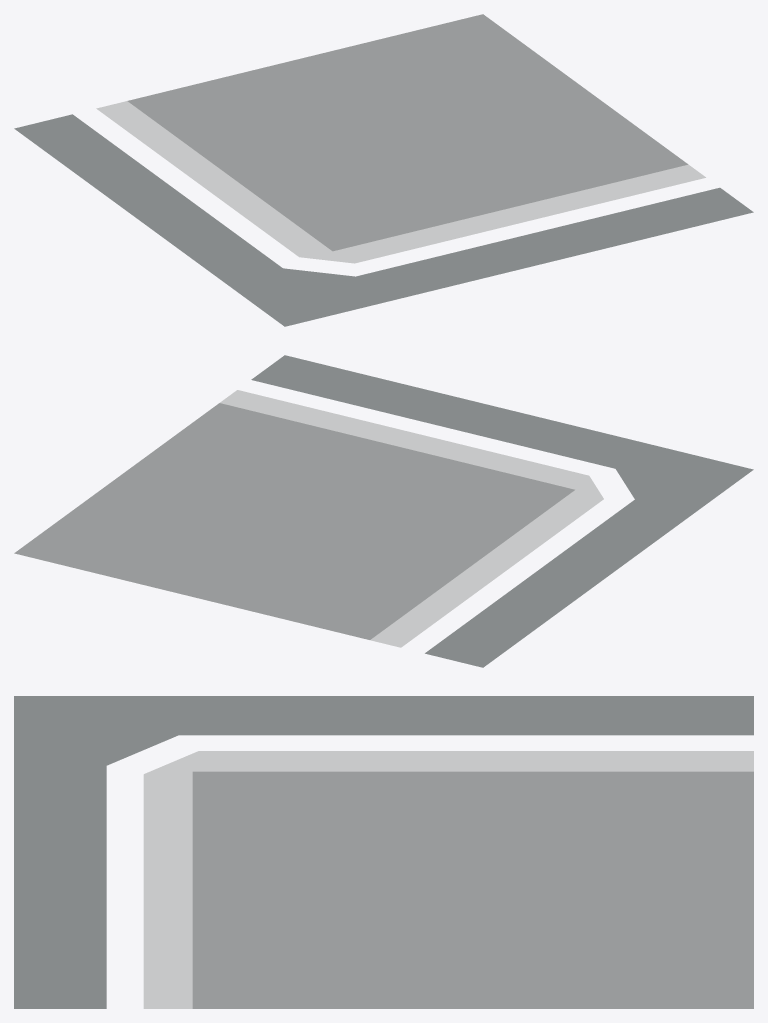
File: Ceiling_type_A_023.glb
The picture shows the model from 3 angles, top to bottom: view 1: azimuth 30°, elevation 25°; view 2: azimuth 150°, elevation 25°; view 3: azimuth 270°, elevation 25°; orthographic projection. The views are drawn at different scales.
Visible parts, largest first — view 1: Ceiling_type_A_023; view 2: Ceiling_type_A_023; view 3: Ceiling_type_A_023.
Boxes of the visible parts, x1=… form: Ceiling_type_A_023: x1=14, y1=14, x2=753, y2=326; Ceiling_type_A_023: x1=14, y1=355, x2=753, y2=667; Ceiling_type_A_023: x1=14, y1=696, x2=753, y2=1008.
Size of the model in its own units: 4 by 0.0618 by 4.
2 materials, 2 textured.
